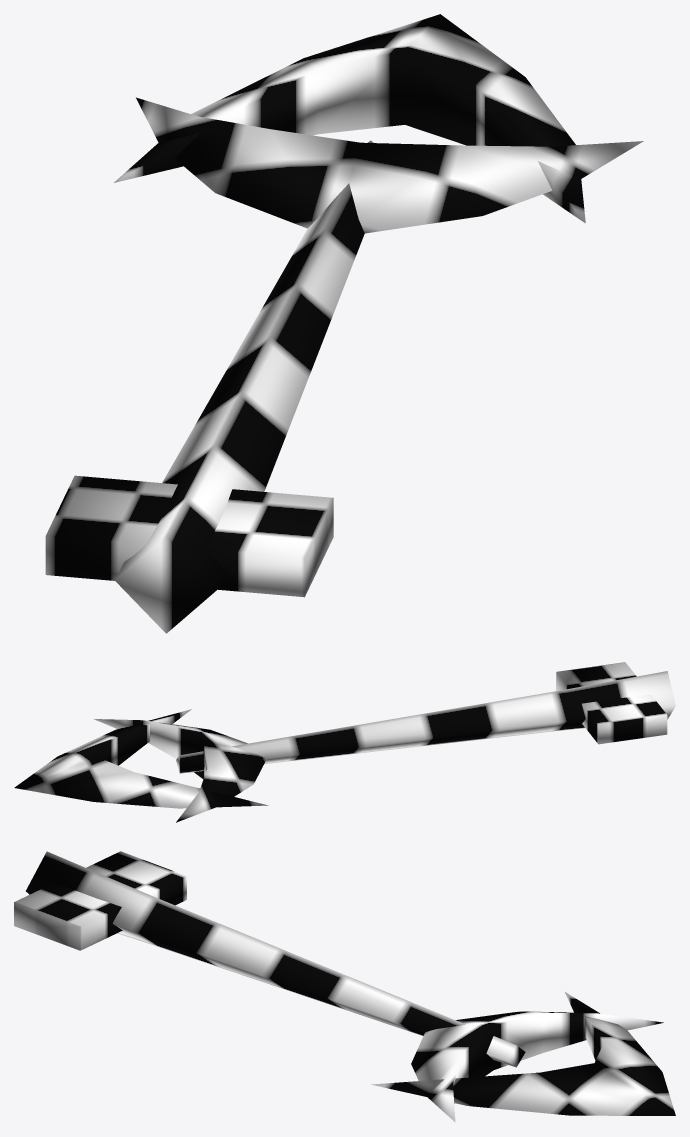
Rendered from initqu66.dae.
3 renders of one model, top to bottom at view 1: azimuth 30°, elevation 25°; view 2: azimuth 150°, elevation 25°; view 3: azimuth 270°, elevation 25°, orthographic. The views are drawn at different scales.
Visible parts, largest first — view 1: item; view 2: item; view 3: item.
Boxes of the visible parts, x1,y1,x2,y2 form: item: [45, 14, 643, 633]; item: [14, 662, 675, 822]; item: [14, 851, 675, 1122].
Bounding box in the file's own units: 1.44 × 1.55 × 0.1533.
Materials: 1 (1 with a texture image).
